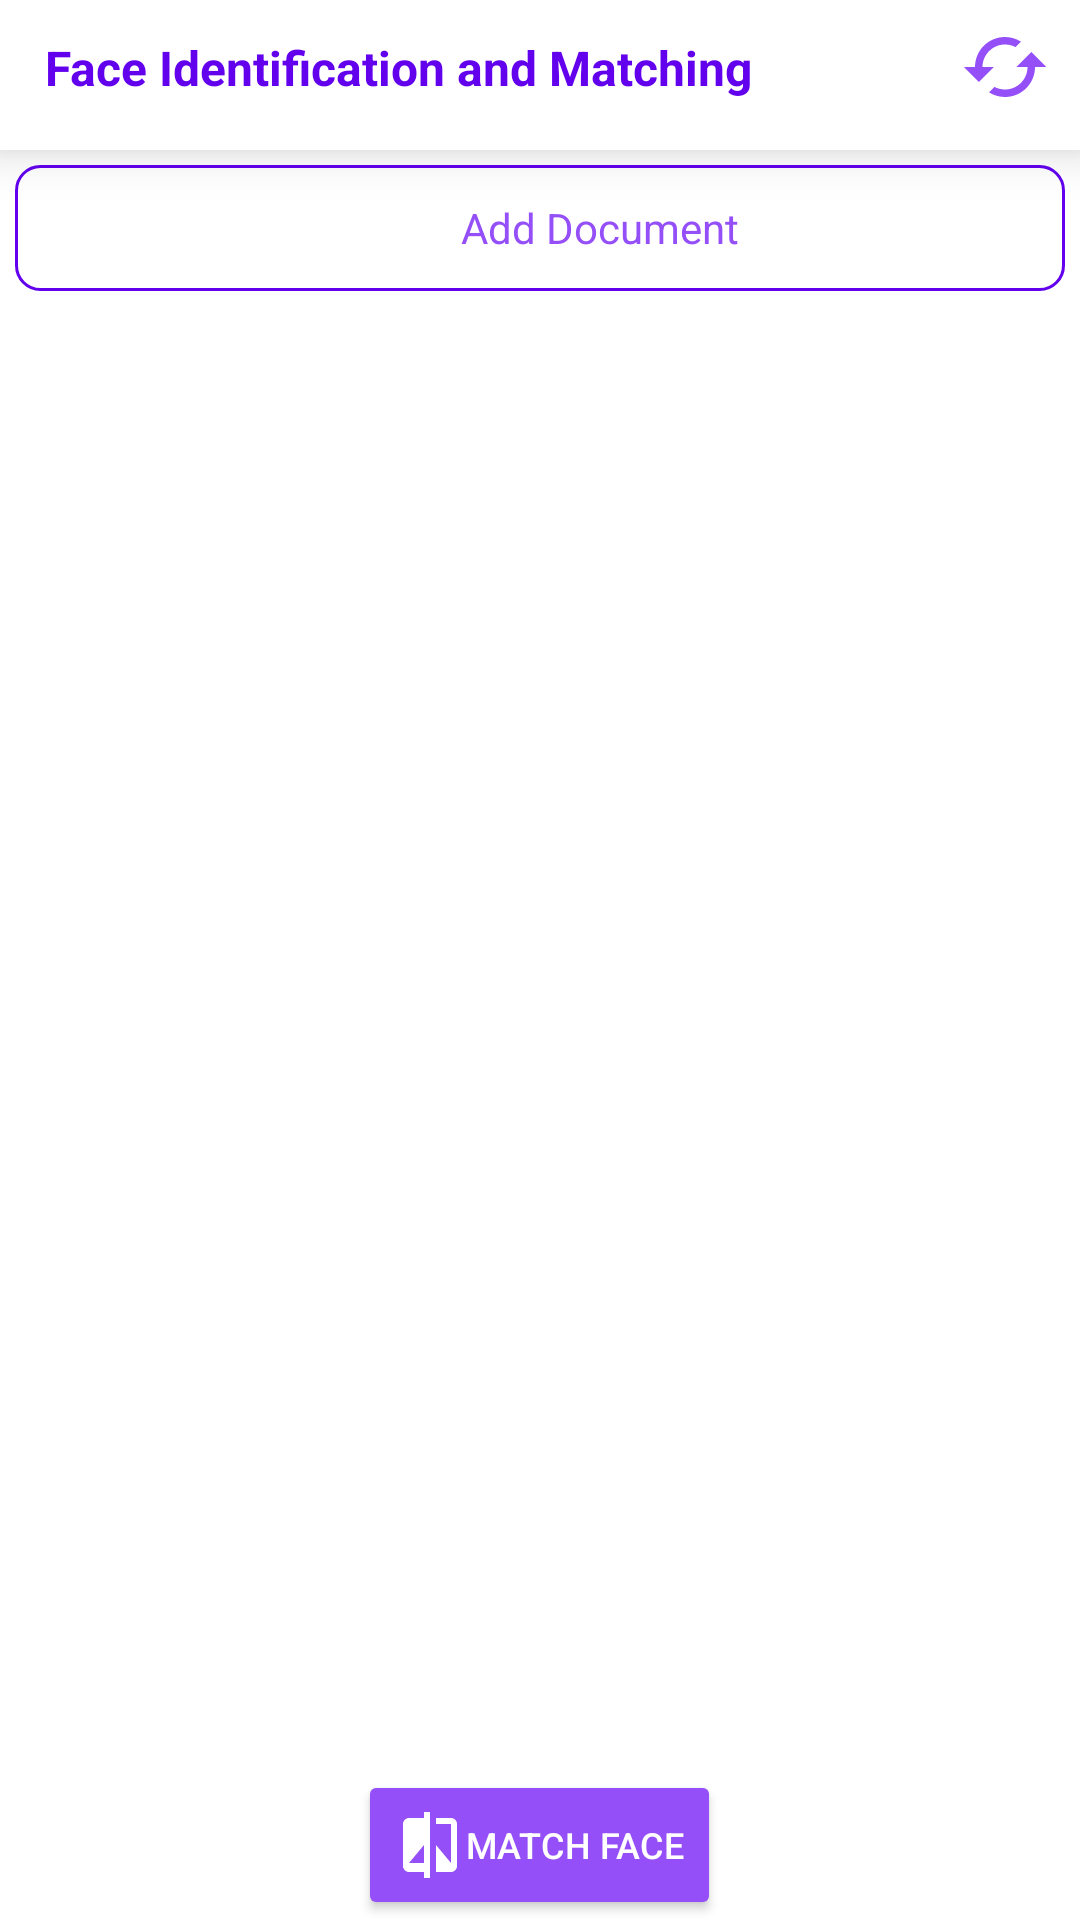

Icon bounding boxes for this 1080px x 1920px phone screenshot, format (x1, y1, x2, y2):
reload data: (964, 37, 1046, 97)
